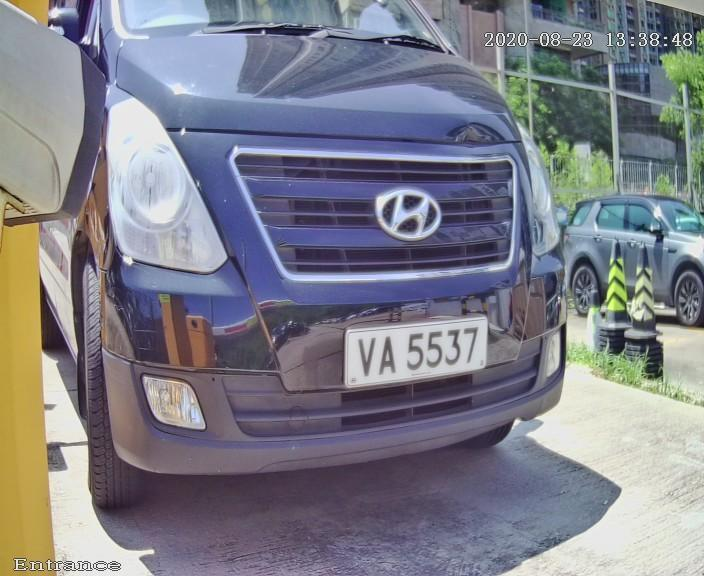Car: (19, 1, 598, 525)
License Plate: (325, 281, 525, 420)
